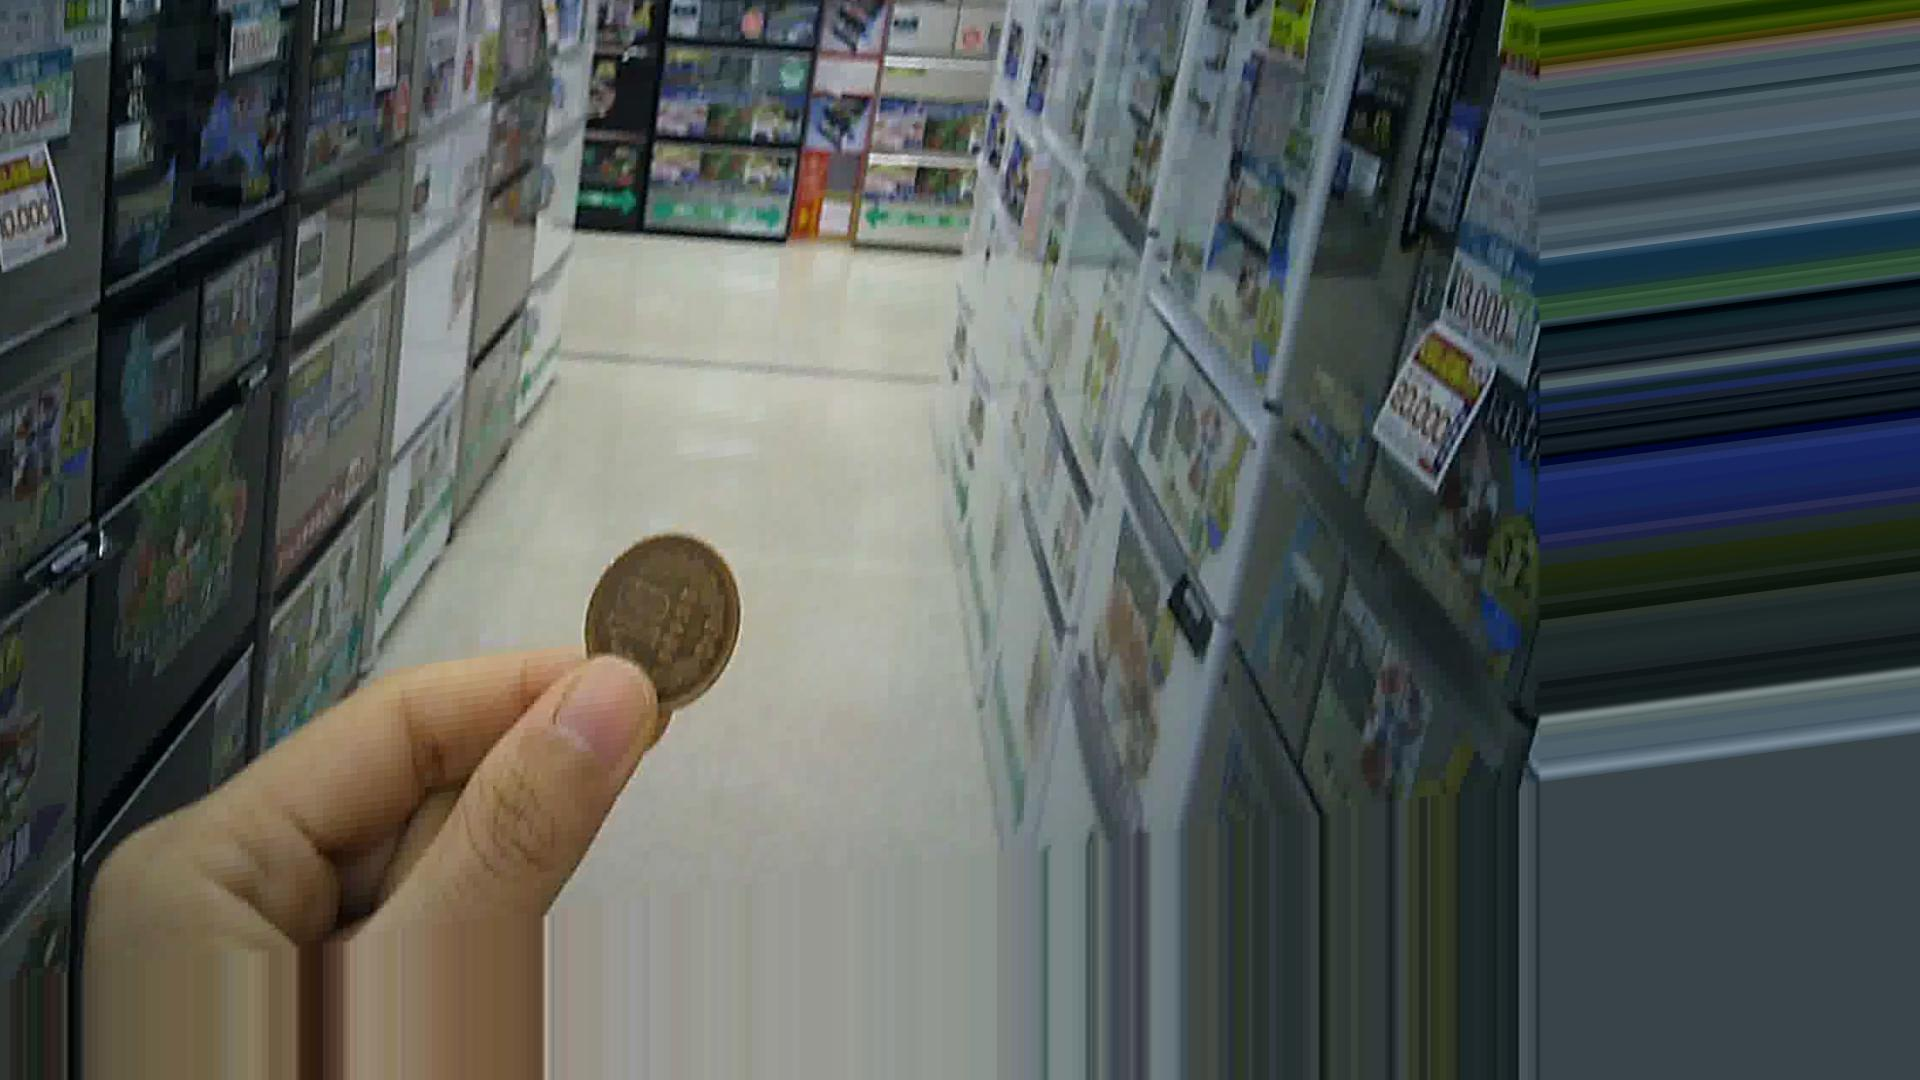10 Yen: (567, 521, 746, 709)
